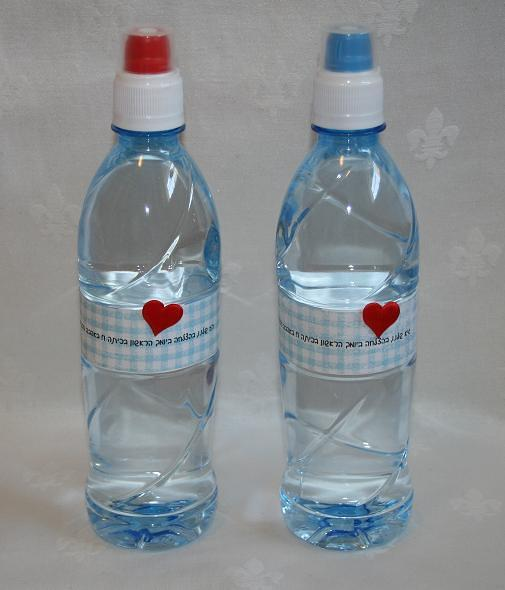bottle: (275, 26, 421, 553), (77, 27, 222, 552)
